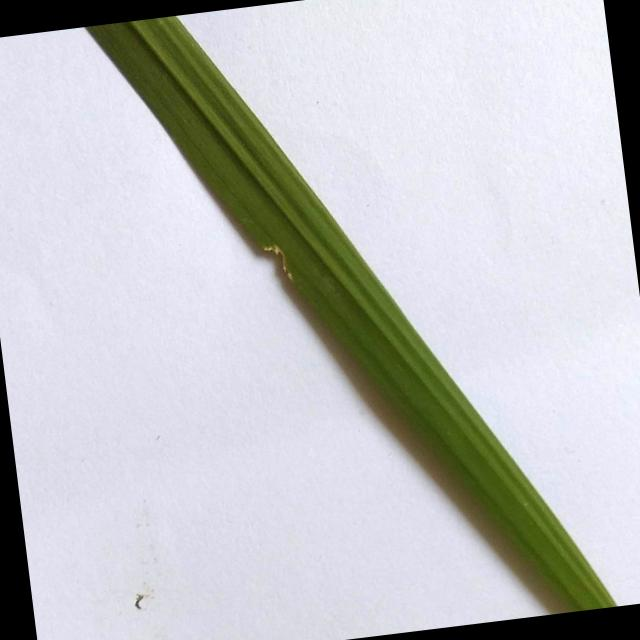Rice_Healthy: (87, 15, 616, 610)
